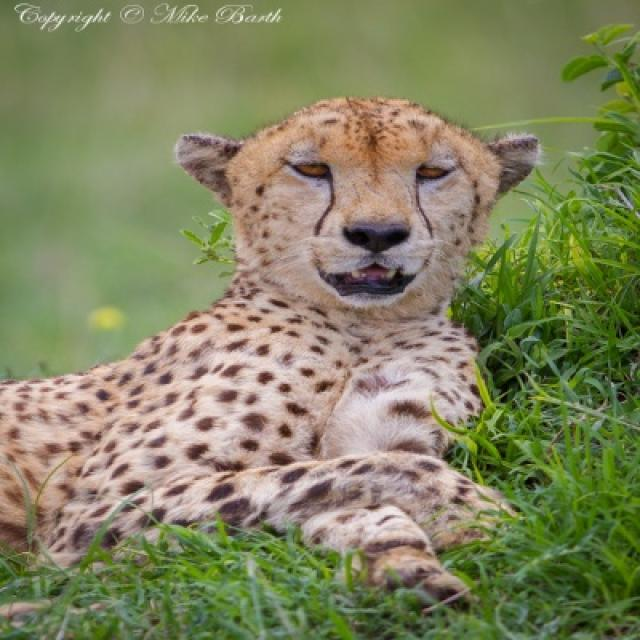Cheetah: (0, 98, 536, 603)
